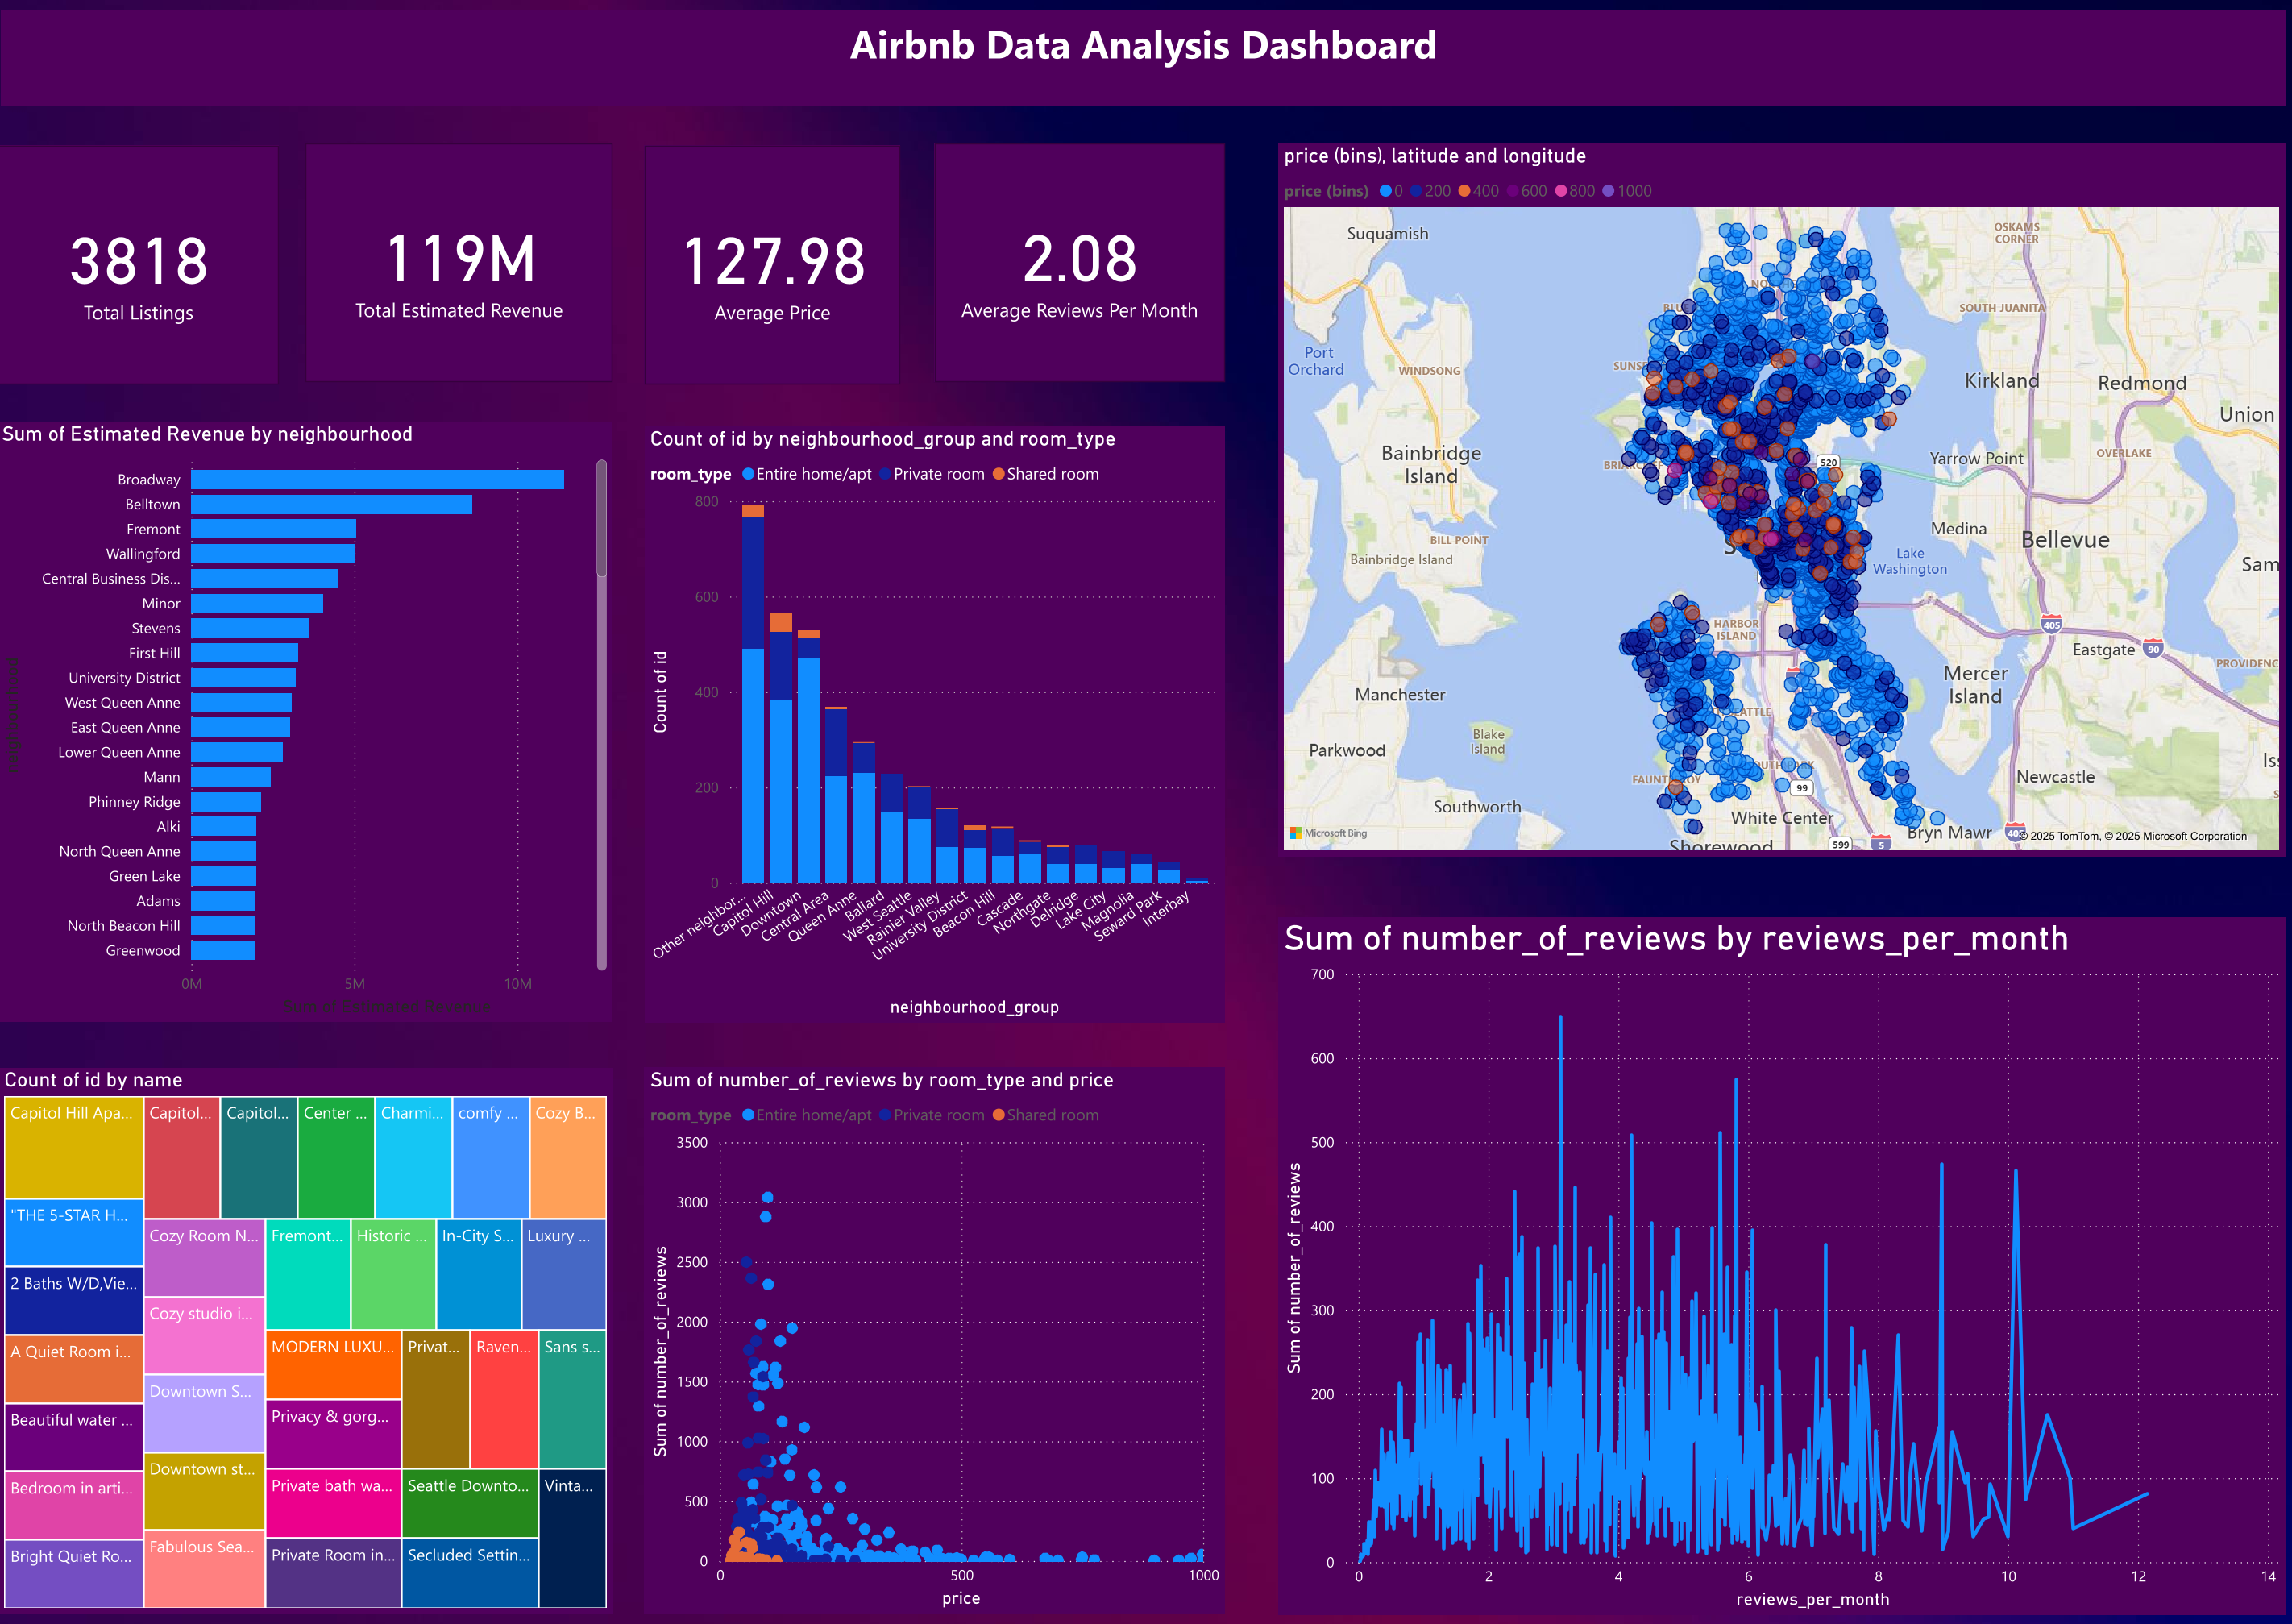

The page's visual inventory and layout, read from the dashboard file:
{"tool":"powerbi","page":{"name":"Page 1","canvas":[1950,1400],"ordinal":0},"visuals":[{"type":"card","title":"Total Listings","fields":{"Values":["public listings.Total Listings"]},"box":[32,148,232,198],"z":0},{"type":"card","fields":{"Values":["public listings.Total Estimated Revenue"]},"box":[286,146,254,198],"z":1000},{"type":"card","fields":{"Values":["public listings.Average Price"]},"box":[566,148,212,198],"z":2000},{"type":"card","fields":{"Values":["public reviews_summary.Average Reviews Per Month"]},"box":[806,146,240,198],"z":3000},{"type":"clusteredBarChart","fields":{"Category":["public neighbourhoods.neighbourhood"],"Y":["Sum(public listings.Estimated Revenue)"]},"box":[30,376.7,510,496.7],"z":4000},{"type":"columnChart","fields":{"Category":["public neighbourhoods.neighbourhood_group"],"Series":["public listings.room_type"],"Y":["CountNonNull(public listings.id)"]},"box":[566.7,380,480,493.3],"z":5000},{"type":"treemap","fields":{"Details":["public listings.name"],"Values":["CountNonNull(public listings.id)"]},"box":[32,910,508,452],"z":6000},{"type":"map","fields":{"Y":["public listings.latitude"],"X":["public listings.longitude"],"Series":["public listings.price (bins)"]},"box":[1090,146.7,833.3,590],"z":7000},{"type":"scatterChart","fields":{"X":["public listings.price"],"Y":["Sum(public reviews_summary.number_of_reviews)"],"Series":["public listings.room_type"]},"box":[566,910,480,452],"z":8000},{"type":"lineChart","fields":{"Category":["public reviews_summary.reviews_per_month"],"Y":["Sum(public reviews_summary.number_of_reviews)"]},"box":[1090,786.7,833.3,576.7],"z":9000},{"type":"textbox","box":[33.3,36.7,1890,80],"z":10000}]}

Visuals, with their boxes in screenshot pixels (x1, y1, x2, y2), scaled from the page's 1950x1400 canvas onto the 2292x1624 screenshot:
"Total Listings" card: (x1=38, y1=172, x2=310, y2=401)
card - public listings.Total Estimated Revenue: (x1=336, y1=169, x2=635, y2=399)
card - public listings.Average Price: (x1=665, y1=172, x2=915, y2=401)
card - public reviews_summary.Average Reviews Per Month: (x1=948, y1=169, x2=1230, y2=399)
clusteredBarChart - public neighbourhoods.neighbourhood x Sum(public listings.Estimated Revenue): (x1=35, y1=437, x2=635, y2=1013)
columnChart - public neighbourhoods.neighbourhood_group x public listings.room_type: (x1=666, y1=441, x2=1231, y2=1013)
treemap - public listings.name x CountNonNull(public listings.id): (x1=38, y1=1056, x2=635, y2=1580)
map - public listings.latitude x public listings.longitude: (x1=1281, y1=170, x2=2261, y2=854)
scatterChart - public listings.price x Sum(public reviews_summary.number_of_reviews): (x1=665, y1=1056, x2=1230, y2=1580)
lineChart - public reviews_summary.reviews_per_month x Sum(public reviews_summary.number_of_reviews): (x1=1281, y1=912, x2=2261, y2=1581)
textbox: (x1=39, y1=43, x2=2261, y2=135)
